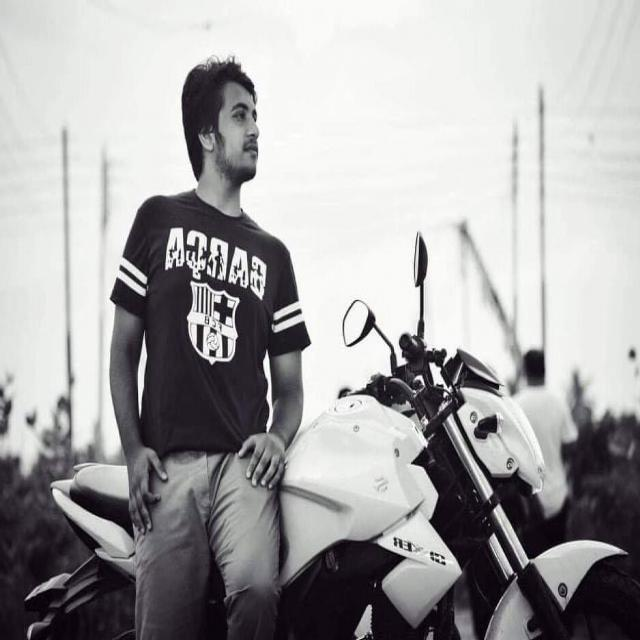No helmet: (182, 61, 268, 192)
